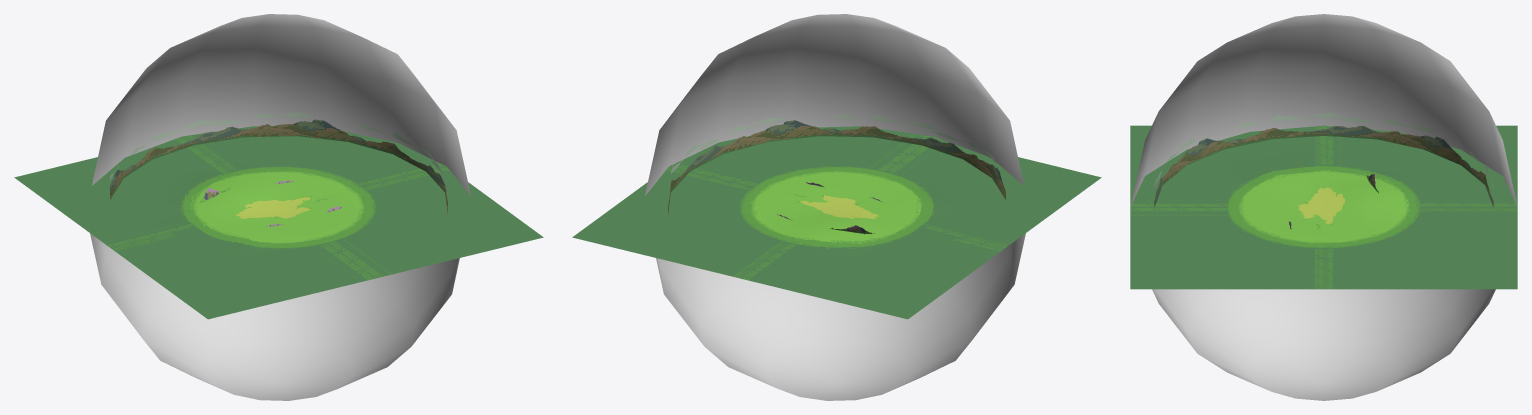
Rendered from grassland.glb.
The picture shows the model from 3 angles, left to right: view 1: azimuth 30°, elevation 25°; view 2: azimuth 150°, elevation 25°; view 3: azimuth 270°, elevation 25°; orthographic projection.
Parts seen in each view (by area): view 1: Grassland; view 2: Grassland; view 3: Grassland.
Part boxes in pixels (x1,y1,x2,y2): Grassland: (14,14,543,400); Grassland: (572,14,1101,400); Grassland: (1130,14,1517,400).
Bounding box in the file's own units: 20 × 20 × 20.
Materials: 4 (3 with a texture image).
